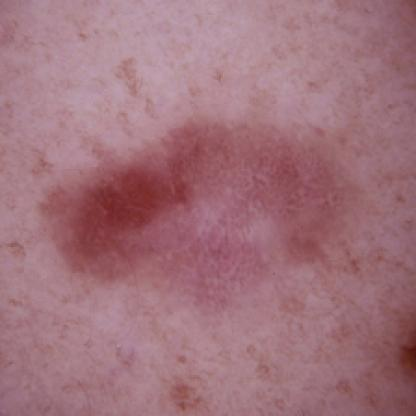Skin_Cancer-Malignant: (37, 117, 352, 312)
